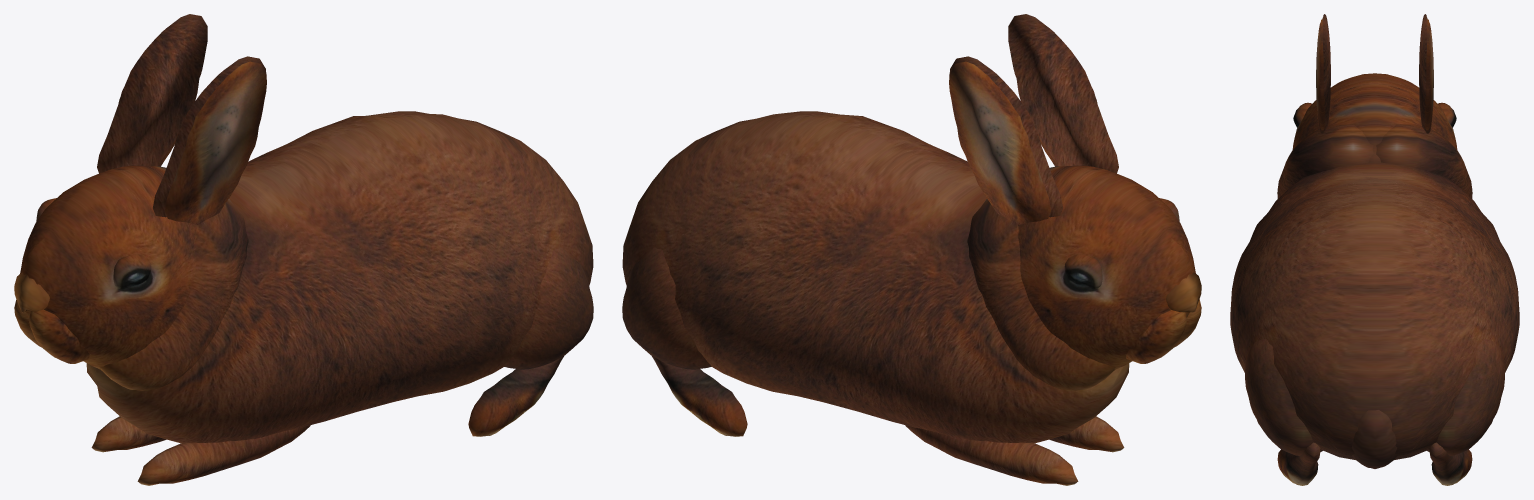
The model's file is kralik.glb.
3 views of the same model, side by side, from view 1: azimuth 30°, elevation 25°; view 2: azimuth 150°, elevation 25°; view 3: azimuth 270°, elevation 25° (orthographic). The views are drawn at different scales.
Bounding box in the file's own units: 163 × 116 × 82.99.
1 material, 1 textured.
